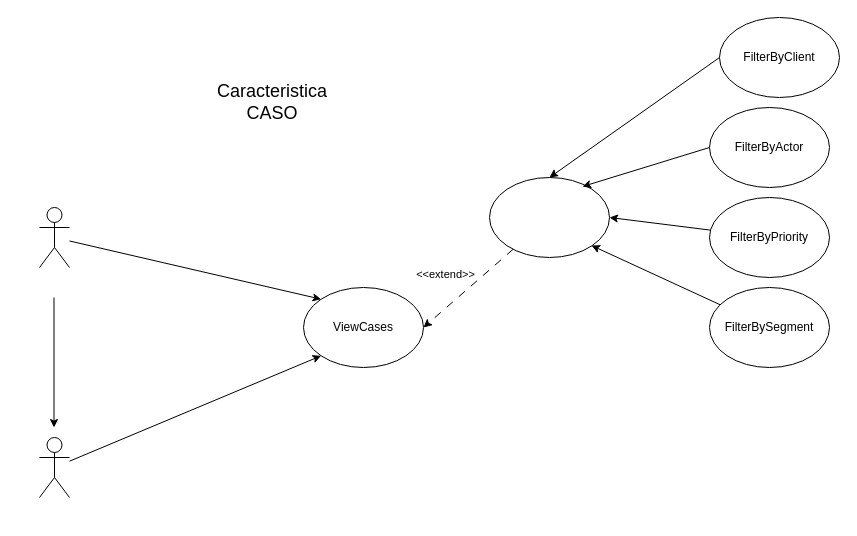
Some shapes in this 857 by 536 pixel diagram are drawn without their labels. Here are the shapes that lost their labels. From the top down, the centre of each, then its label:
At (54,237): "Administrador".
At (549,217): "FilterCases".
At (54,467): "Técnico".
